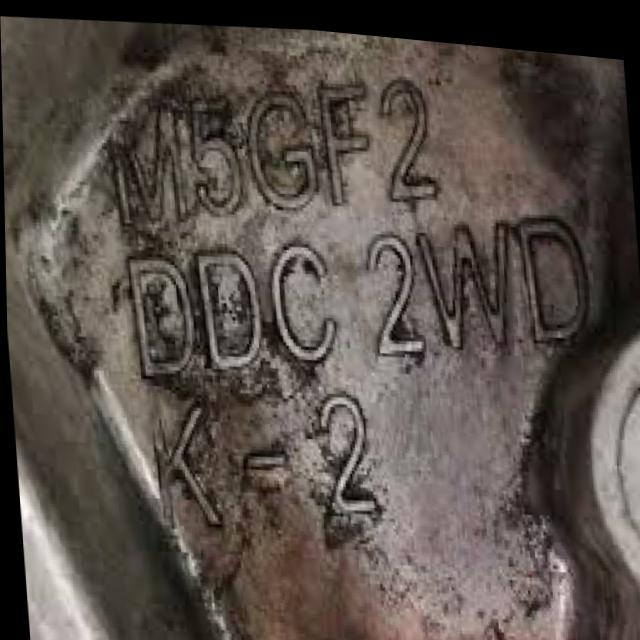ocr: (121, 195, 603, 389), (94, 56, 449, 252), (142, 376, 396, 558)
